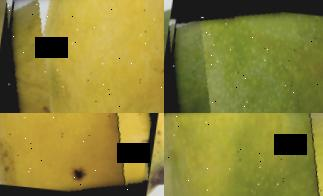PartiallyRipe: (164, 113, 323, 196)
Ripe: (0, 0, 164, 113), (0, 113, 162, 196)
Unripe: (164, 0, 323, 113)
